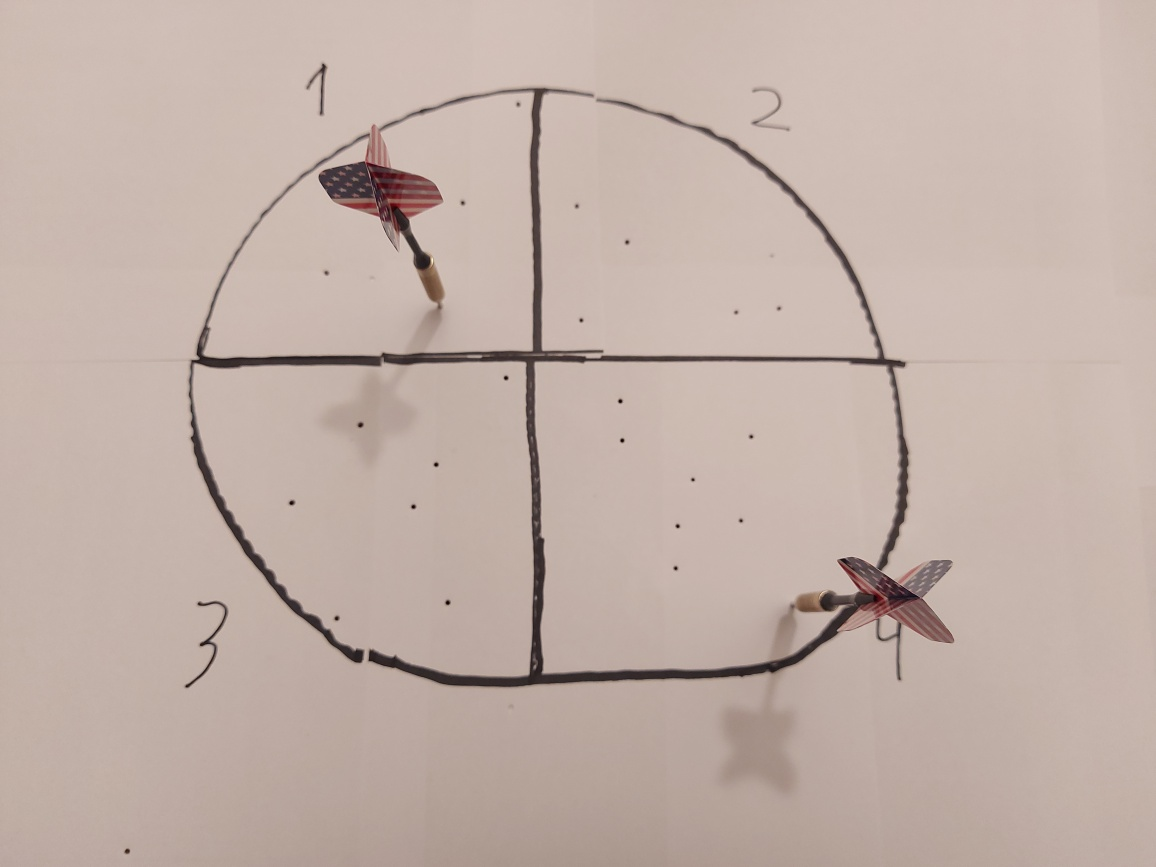Dart: (302, 119, 461, 322), (781, 539, 974, 668)
